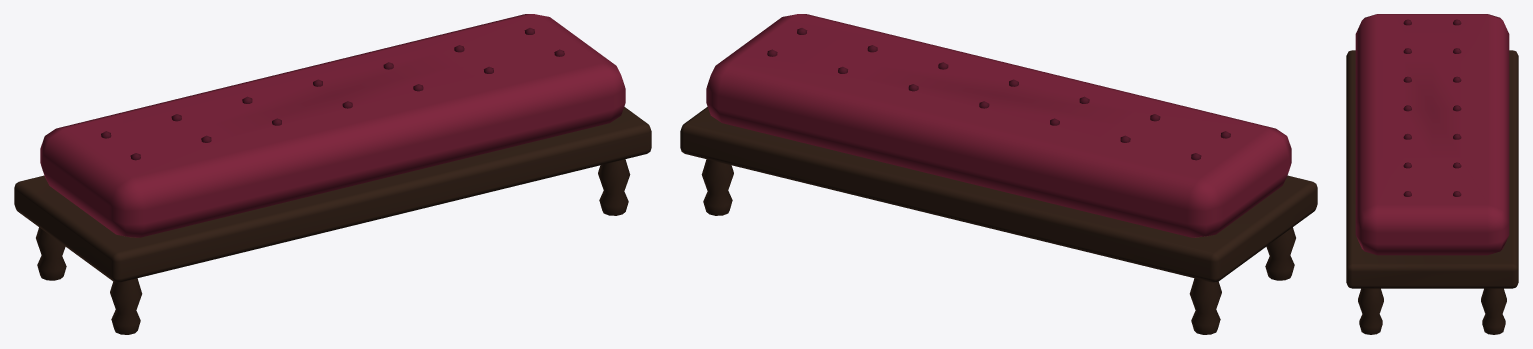
File: furn_museum_bench.glb
3 renders of one model, left to right at view 1: azimuth 30°, elevation 25°; view 2: azimuth 150°, elevation 25°; view 3: azimuth 270°, elevation 25°, orthographic. The views are drawn at different scales.
Parts seen in each view (by area): view 1: furn_museum_bench_main; view 2: furn_museum_bench_main; view 3: furn_museum_bench_main.
Boxes of the visible parts, box(x1,y1,x2,y2) form: furn_museum_bench_main: box(14, 14, 651, 334); furn_museum_bench_main: box(680, 14, 1317, 334); furn_museum_bench_main: box(1346, 14, 1518, 334).
Bounding box in the file's own units: 1.68 × 0.456 × 0.56.
